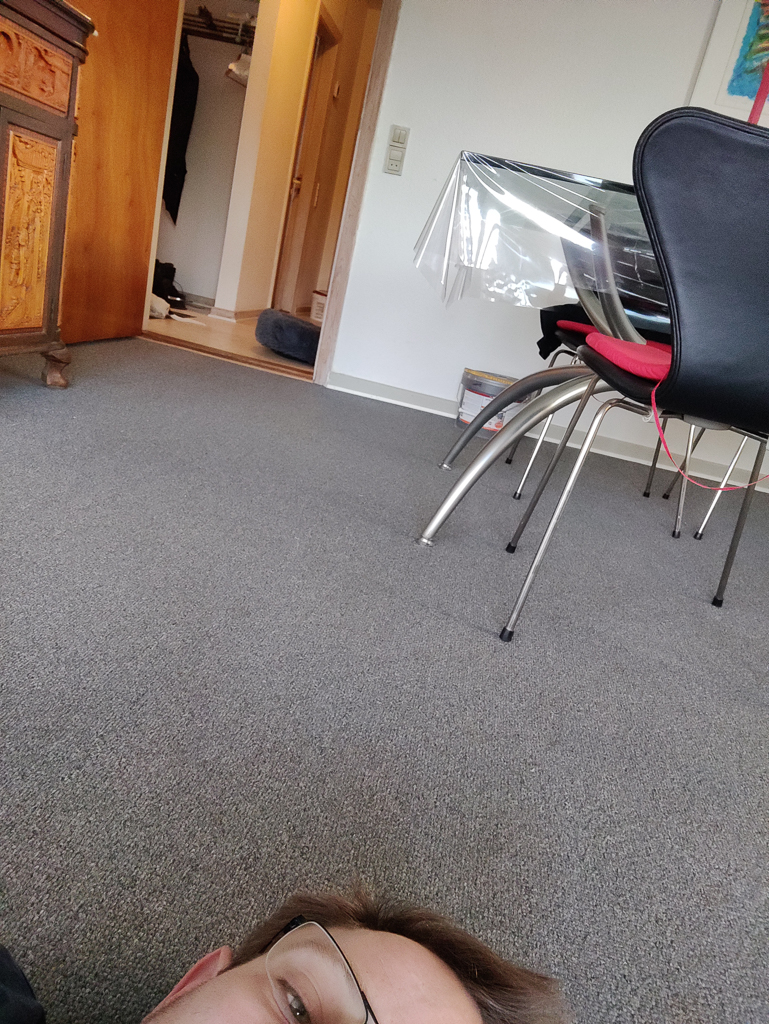Dog: (143, 265, 209, 331)
Humanoid: (0, 877, 613, 1024)
